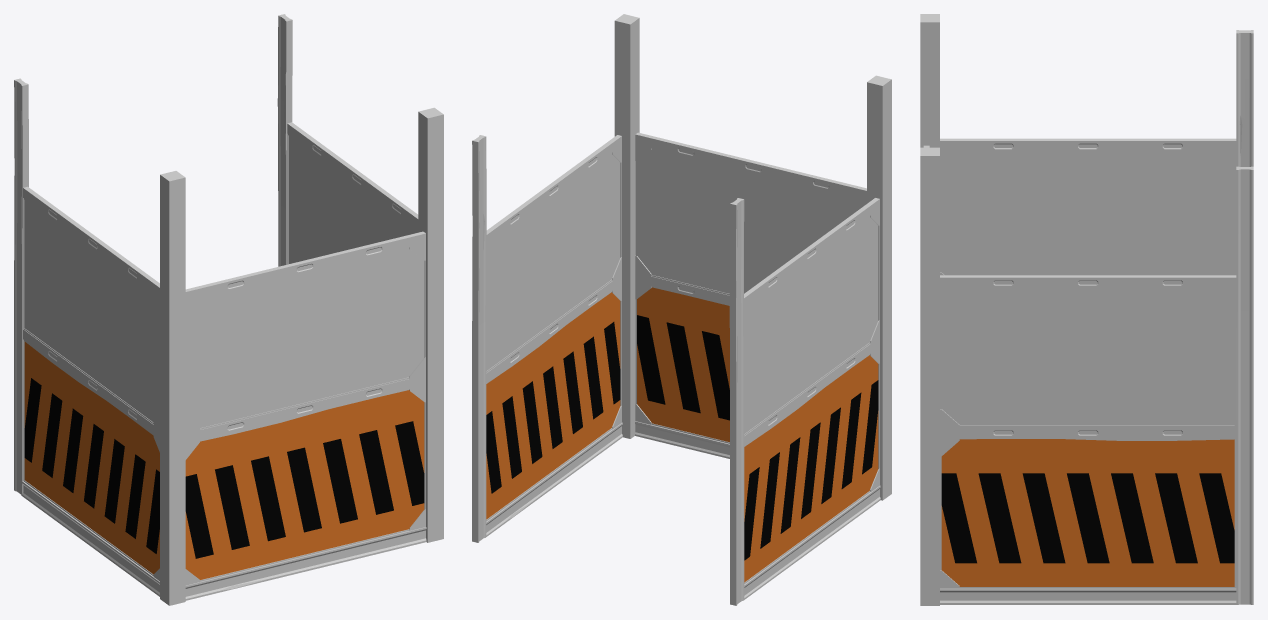
File: SM_Wall_Angle_06.glb
3 views of the same model, side by side, from view 1: azimuth 30°, elevation 25°; view 2: azimuth 150°, elevation 25°; view 3: azimuth 270°, elevation 25° (orthographic). The views are drawn at different scales.
Visible parts, largest first — view 1: SM_Wall_Angle_06; view 2: SM_Wall_Angle_06; view 3: SM_Wall_Angle_06.
Part boxes in pixels (x1,y1,x2,y2): SM_Wall_Angle_06: (14,14,443,605); SM_Wall_Angle_06: (472,14,891,605); SM_Wall_Angle_06: (920,14,1253,605).
Size of the model in its own units: 2.03 by 3 by 2.01.
